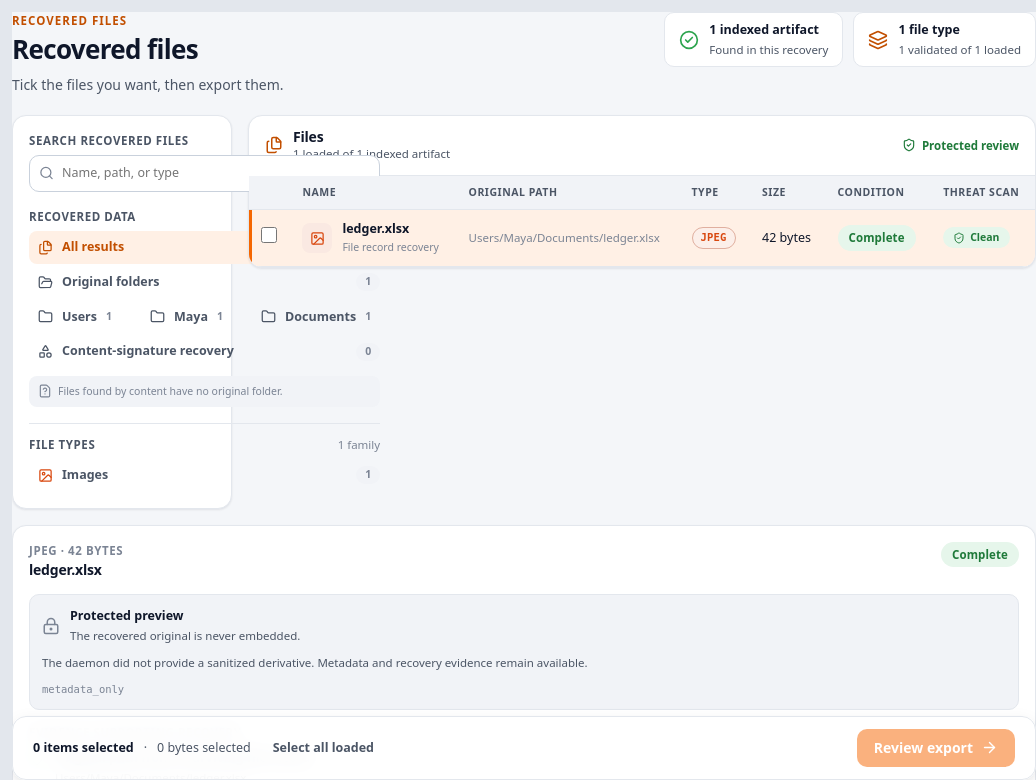
Scenario: live renderer pages › shows selected artifact evidence and a truthful export selection summary
This screenshot has width=1036, height=780.
Expected: the heading "Evidence supporting recovery" is shown, [29,725,241,740]
Click the checkbox named "Select ledger.xlsx for export" at (269, 235), box [261,227,277,243]
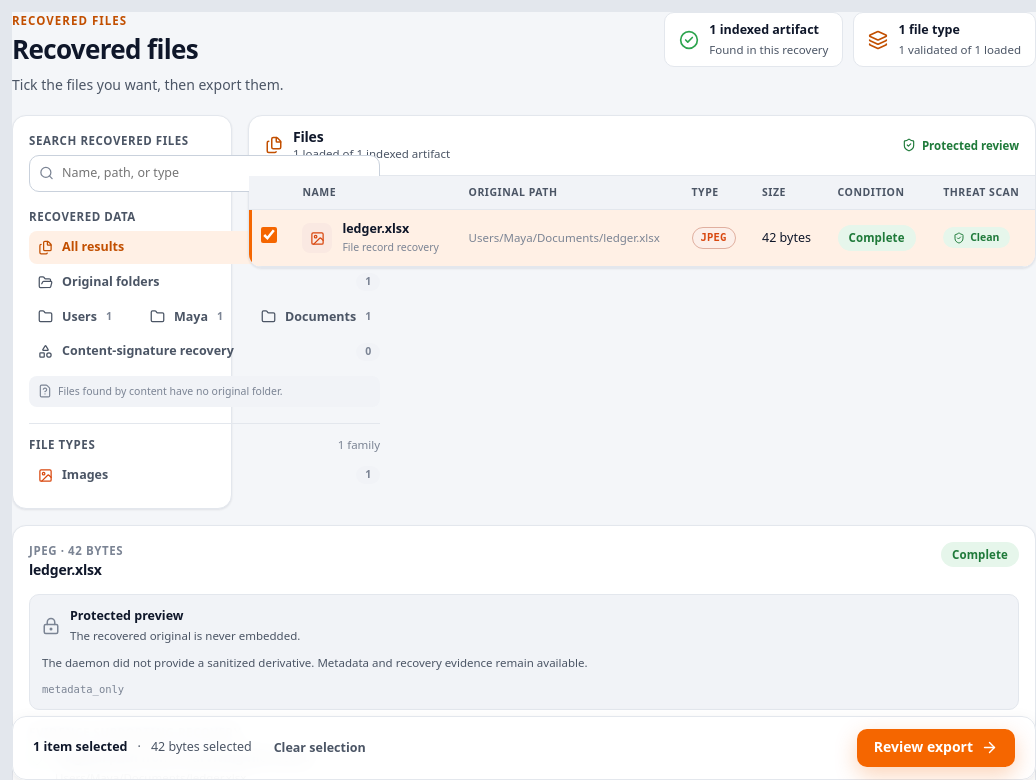
Expected: the text "1 item selected" is shown, [33,739,128,757]
Now the text "42 bytes selected" is shown, box [151,739,252,757]
